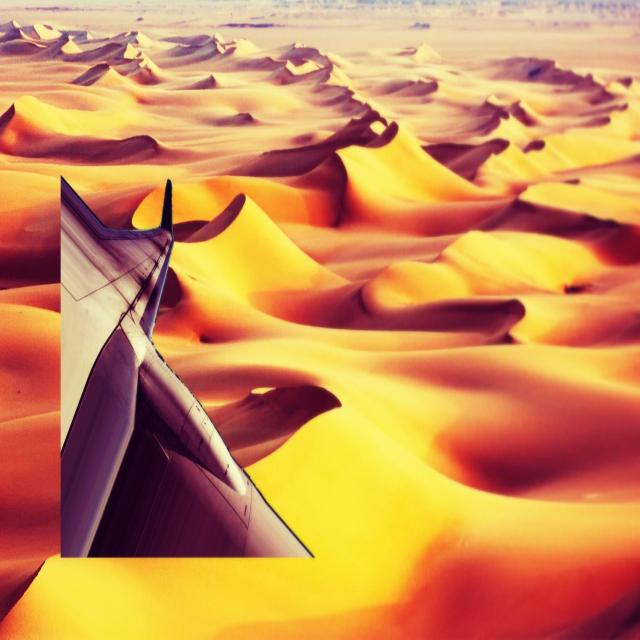airplane: (59, 172, 329, 559)
